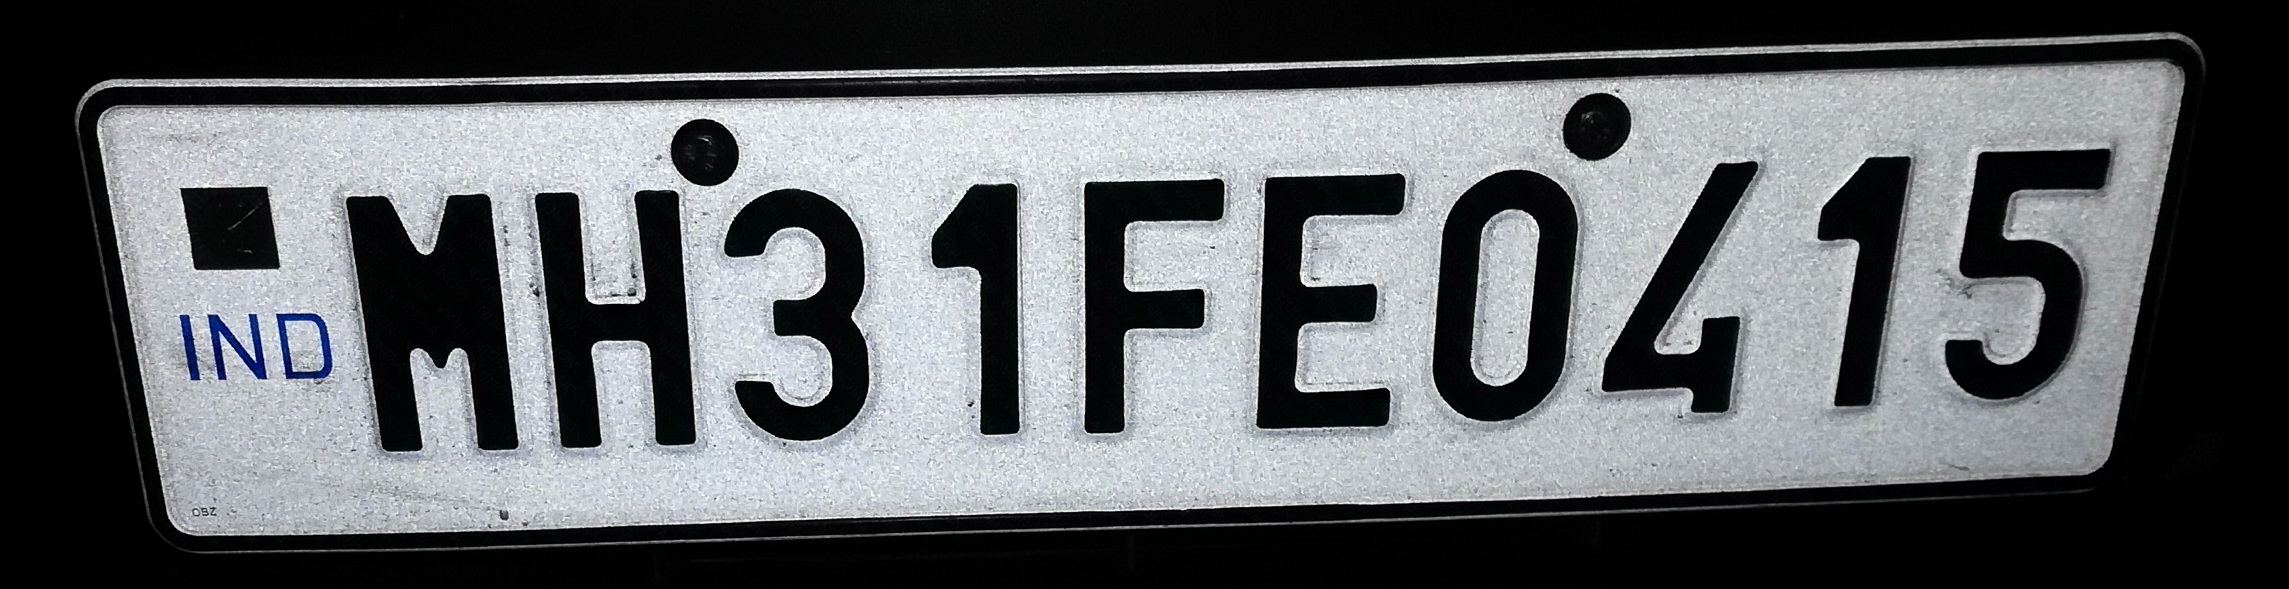numberplate: (70, 26, 2199, 561)
